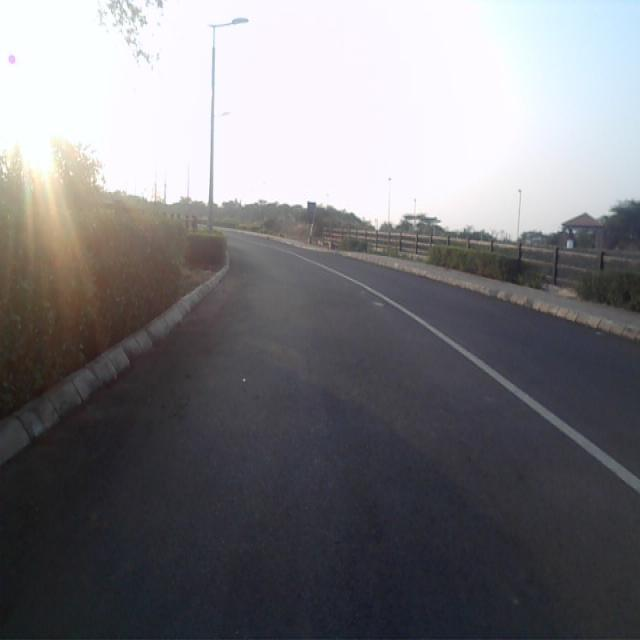lane: (0, 243, 640, 640)
